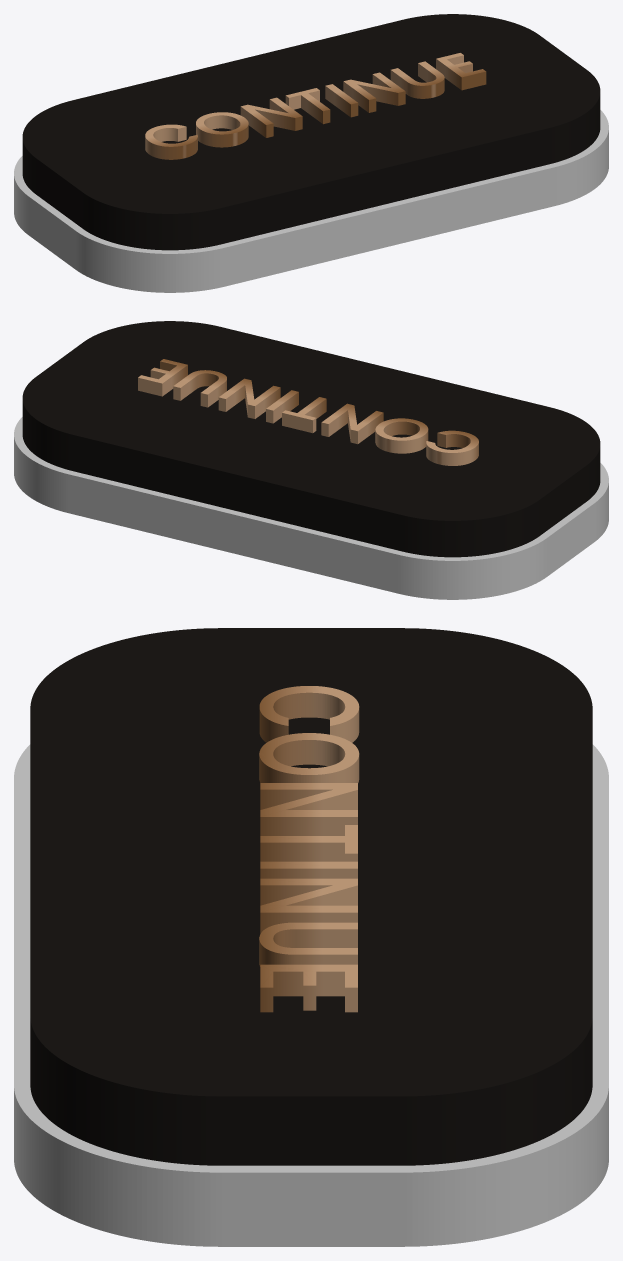
The model's file is Project Name.fbx.
3 renders of one model, top to bottom at view 1: azimuth 30°, elevation 25°; view 2: azimuth 150°, elevation 25°; view 3: azimuth 270°, elevation 25°, orthographic. The views are drawn at different scales.
Parts seen in each view (by area): view 1: Rectangle, Rectangle - Stroke, Path; view 2: Rectangle, Rectangle - Stroke, Path; view 3: Rectangle, Rectangle - Stroke, Path.
Part boxes in pixels (bbox=[...]): Rectangle: bbox=[22, 14, 600, 250]; Rectangle - Stroke: bbox=[14, 110, 608, 292]; Path: bbox=[145, 53, 486, 159]; Rectangle: bbox=[22, 321, 600, 557]; Rectangle - Stroke: bbox=[14, 417, 608, 599]; Path: bbox=[138, 359, 478, 465]; Rectangle: bbox=[30, 628, 592, 1165]; Rectangle - Stroke: bbox=[14, 744, 608, 1246]; Path: bbox=[259, 686, 359, 1012].
Bounding box in the file's own units: 62.7 × 32.7 × 10.2.
